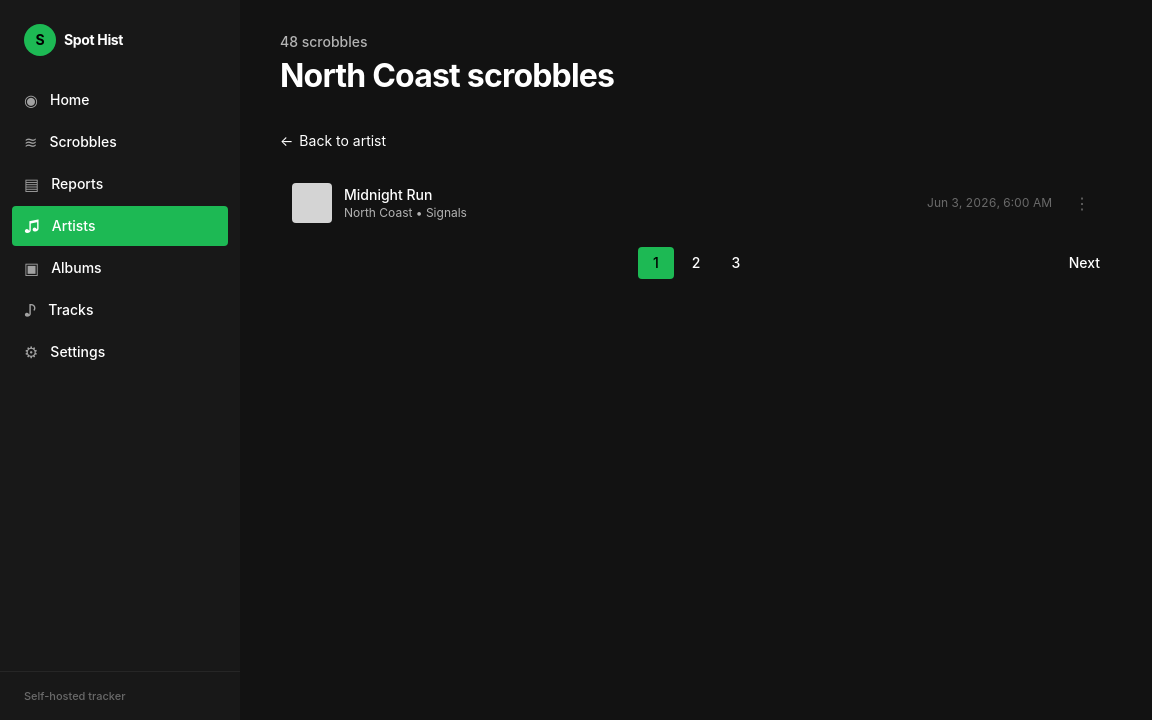
Scenario: detail page navigation › uses numbered pagination routes on /artists/artist_1/scrobbles
Check: the link "Midnight Run" is shown, box [344, 186, 432, 203]
Click the link "Next": (1084, 262) [1069, 254, 1100, 271]
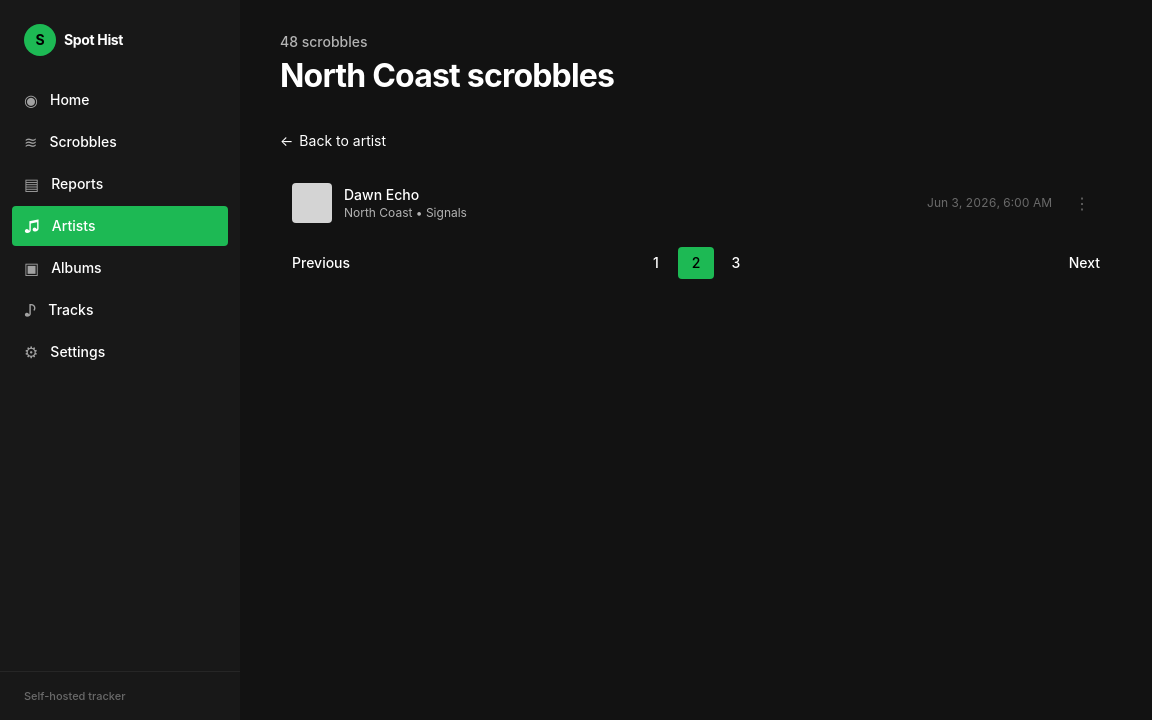
Check: the link "Dawn Echo" is shown, box [344, 186, 419, 203]
Click the link "Previous": (321, 262) [292, 254, 350, 271]
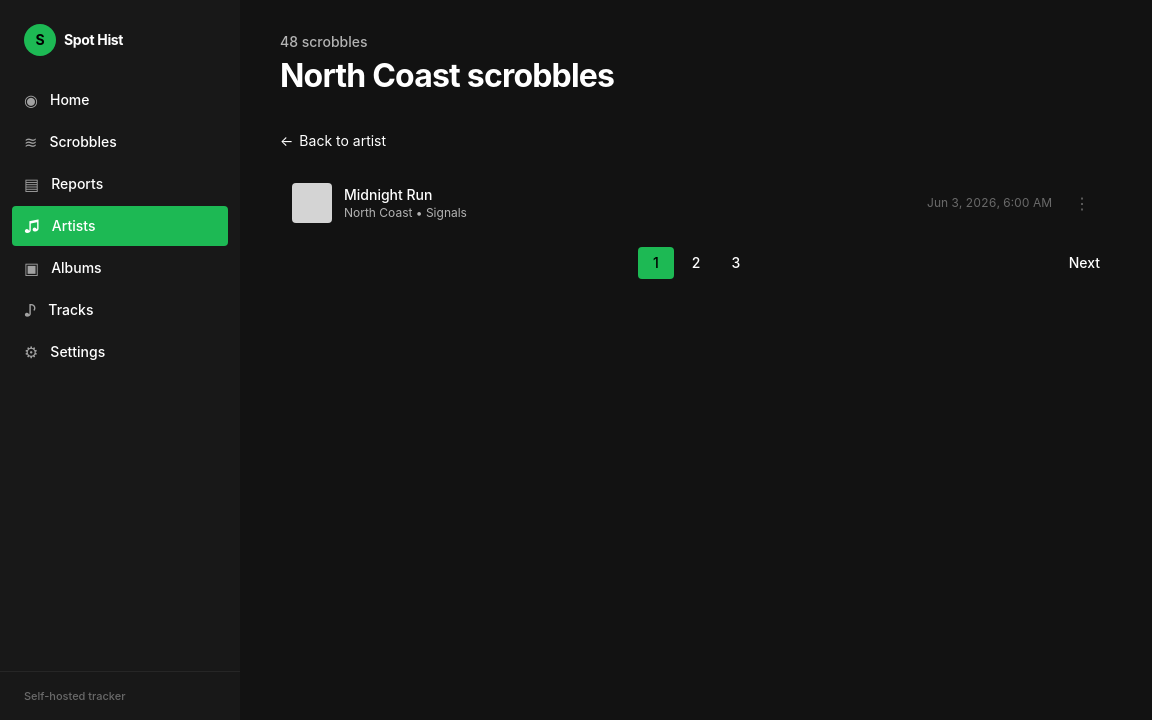
Check: the link "Midnight Run" is shown, box [344, 186, 432, 203]
